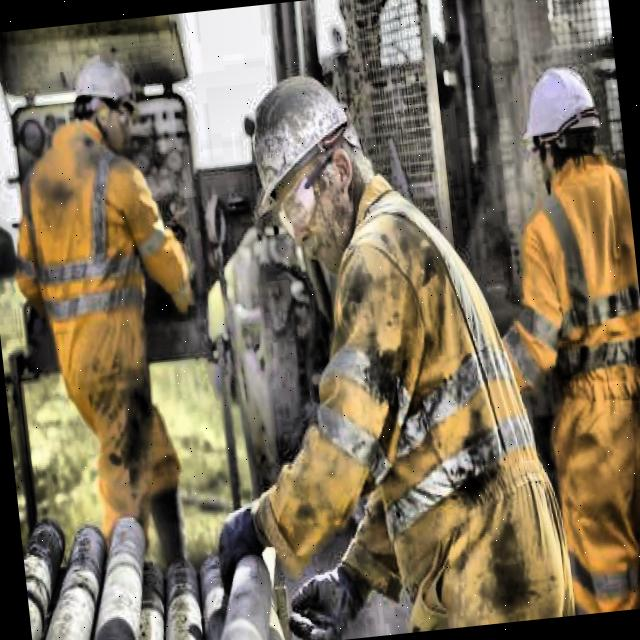helmet: (236, 54, 378, 265), (520, 59, 608, 198), (65, 50, 152, 154)
